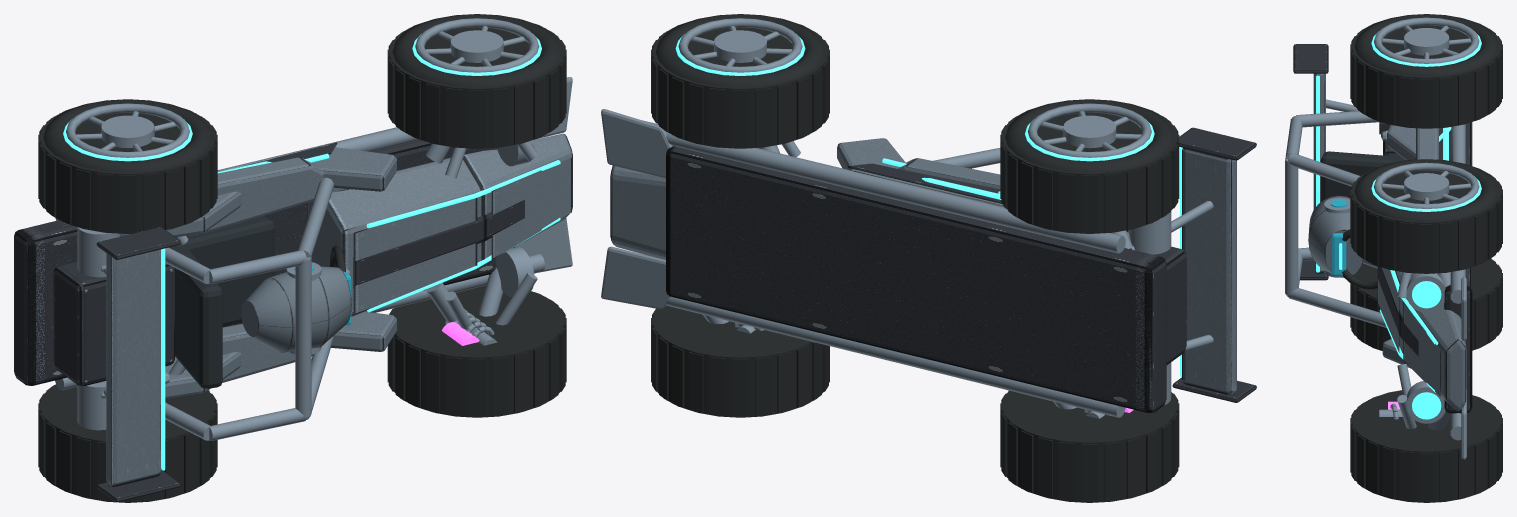
The model's file is kart-high.glb.
3 renders of one model, left to right at view 1: azimuth 30°, elevation 25°; view 2: azimuth 150°, elevation 25°; view 3: azimuth 270°, elevation 25°, orthographic. The views are drawn at different scales.
Parts seen in each view (by area): view 1: kart-root / Brushed pale alloy, kart-root / Ceramic graphite, kart-root / Titanium edges, Wheel 0 -1 / Tire rubber, Wheel 0 1 / Tire rubber, Wheel 1 1 / Tire rubber, Wheel 1 -1 / Tire rubber, kart-root / Cockpit upholstery, Wheel 0 1 / Titanium edges, Wheel 1 1 / Titanium edges, kart-root / Cyan instrumentation, Wheel 1 1 / Cyan instrumentation (+1 smaller); view 2: kart-root / Ceramic graphite, kart-root / Titanium edges, kart-root / Brushed pale alloy, Wheel 1 1 / Tire rubber, Wheel 0 1 / Tire rubber, Wheel 1 -1 / Tire rubber, Wheel 0 -1 / Tire rubber, Wheel 0 1 / Titanium edges, Wheel 1 1 / Titanium edges, kart-root / Cyan instrumentation; view 3: Wheel 0 -1 / Tire rubber, Wheel 0 1 / Tire rubber, Wheel 1 1 / Tire rubber, kart-root / Titanium edges, kart-root / Brushed pale alloy, kart-root / Ceramic graphite, Wheel 1 -1 / Tire rubber, Wheel 1 1 / Titanium edges, Wheel 0 1 / Titanium edges, kart-root / Cyan instrumentation, kart-root / Cockpit upholstery, kart-root / Cyan glazing (+3 smaller).
Boxes of the visible parts, x1=… form: kart-root / Brushed pale alloy: x1=106, y1=133, x2=572, y2=486; kart-root / Ceramic graphite: x1=14, y1=140, x2=524, y2=502; kart-root / Titanium edges: x1=55, y1=77, x2=572, y2=440; Wheel 0 -1 / Tire rubber: x1=387, y1=285, x2=566, y2=417; Wheel 0 1 / Tire rubber: x1=387, y1=14, x2=566, y2=148; Wheel 1 1 / Tire rubber: x1=38, y1=99, x2=217, y2=233; Wheel 1 -1 / Tire rubber: x1=38, y1=384, x2=217, y2=502; kart-root / Cockpit upholstery: x1=169, y1=215, x2=274, y2=388; Wheel 0 1 / Titanium edges: x1=415, y1=18, x2=539, y2=72; Wheel 1 1 / Titanium edges: x1=66, y1=103, x2=189, y2=157; kart-root / Cyan instrumentation: x1=161, y1=153, x2=560, y2=470; Wheel 1 1 / Cyan instrumentation: x1=63, y1=119, x2=192, y2=161; kart-root / Ceramic graphite: x1=666, y1=127, x2=1256, y2=412; kart-root / Titanium edges: x1=601, y1=109, x2=1213, y2=418; kart-root / Brushed pale alloy: x1=610, y1=138, x2=1236, y2=394; Wheel 1 1 / Tire rubber: x1=1000, y1=99, x2=1179, y2=233; Wheel 0 1 / Tire rubber: x1=651, y1=14, x2=829, y2=148; Wheel 1 -1 / Tire rubber: x1=1000, y1=390, x2=1179, y2=502; Wheel 0 -1 / Tire rubber: x1=651, y1=305, x2=829, y2=417; Wheel 0 1 / Titanium edges: x1=678, y1=18, x2=802, y2=72; Wheel 1 1 / Titanium edges: x1=1027, y1=103, x2=1151, y2=157; kart-root / Cyan instrumentation: x1=882, y1=147, x2=1182, y2=377; Wheel 0 -1 / Tire rubber: x1=1350, y1=390, x2=1502, y2=502; Wheel 0 1 / Tire rubber: x1=1350, y1=159, x2=1502, y2=273; Wheel 1 1 / Tire rubber: x1=1350, y1=14, x2=1502, y2=128; kart-root / Titanium edges: x1=1285, y1=99, x2=1466, y2=459; kart-root / Brushed pale alloy: x1=1308, y1=73, x2=1466, y2=410; kart-root / Ceramic graphite: x1=1293, y1=44, x2=1472, y2=413; Wheel 1 -1 / Tire rubber: x1=1350, y1=258, x2=1502, y2=350; Wheel 1 1 / Titanium edges: x1=1374, y1=17, x2=1479, y2=63; Wheel 0 1 / Titanium edges: x1=1374, y1=162, x2=1479, y2=208; kart-root / Cyan instrumentation: x1=1316, y1=75, x2=1451, y2=419; kart-root / Cockpit upholstery: x1=1320, y1=151, x2=1405, y2=201; kart-root / Cyan glazing: x1=1330, y1=199, x2=1347, y2=276.
Size of the model in its own units: 1.52 by 0.9102 by 0.6052.
8 materials, 2 textured.
